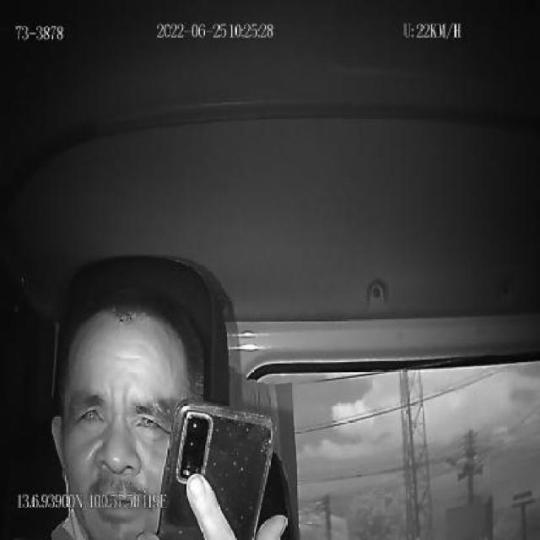phone: (156, 398, 274, 540)
